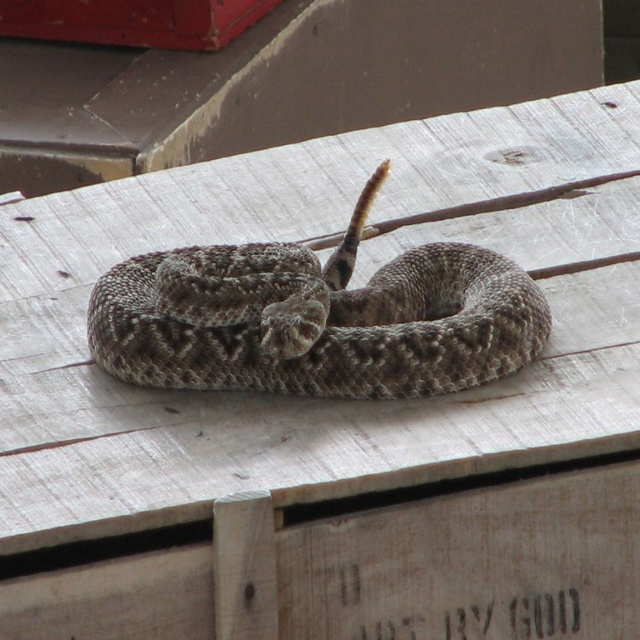Snake: (85, 155, 552, 399)
